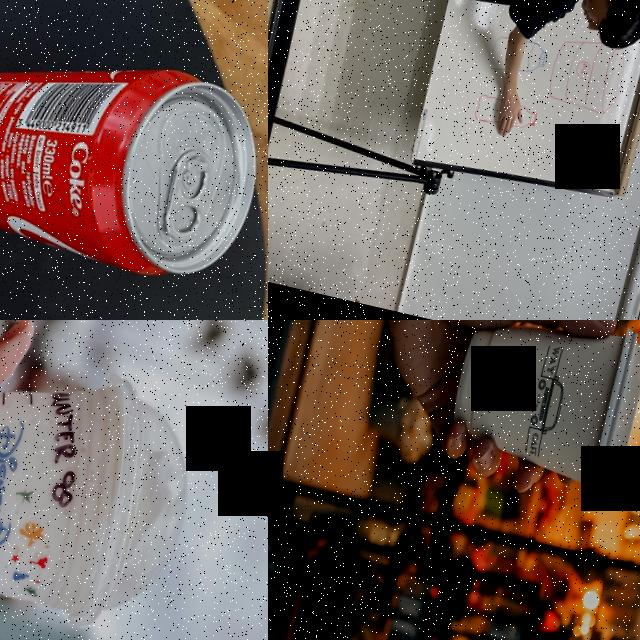can: (0, 3, 268, 296)
cup: (0, 320, 212, 640), (437, 320, 640, 505)
